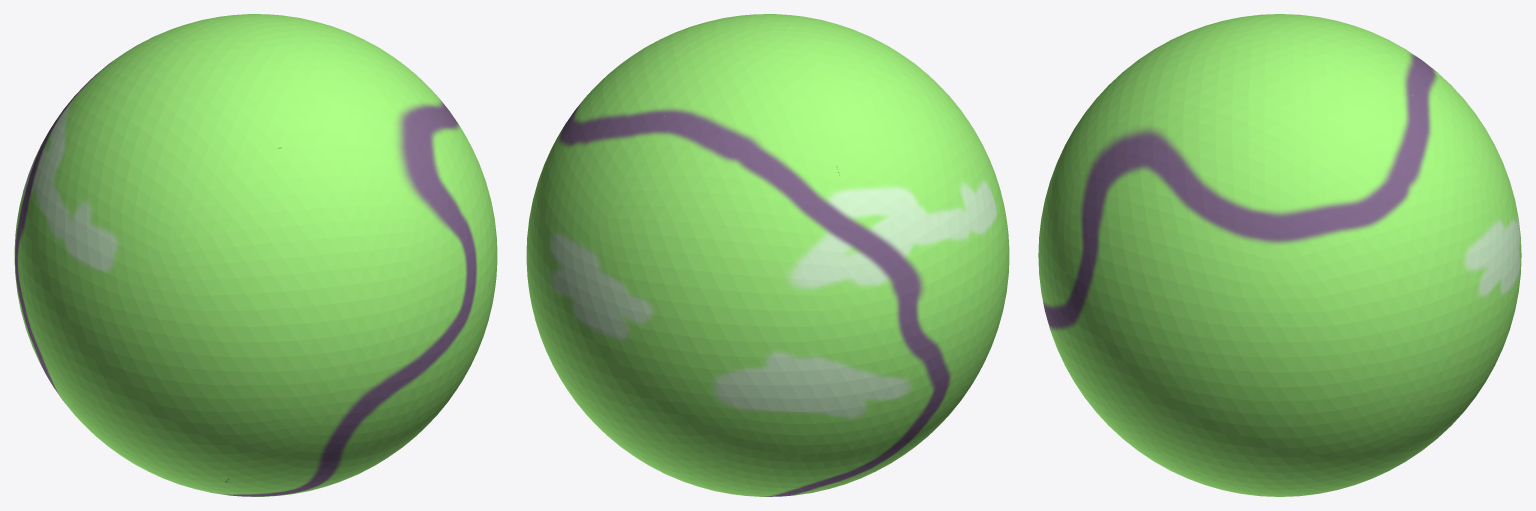
Rendered from planet.gltf.
3 views of the same model, side by side, from view 1: azimuth 30°, elevation 25°; view 2: azimuth 150°, elevation 25°; view 3: azimuth 270°, elevation 25° (orthographic).
Parts seen in each view (by area): view 1: Icosphere; view 2: Icosphere; view 3: Icosphere.
Boxes of the visible parts, <box> form: Icosphere: <box>14,14,497,496</box>; Icosphere: <box>526,14,1009,496</box>; Icosphere: <box>1038,14,1521,496</box>.
Bounding box in the file's own units: 20 × 20 × 20.
1 material, 1 textured.
